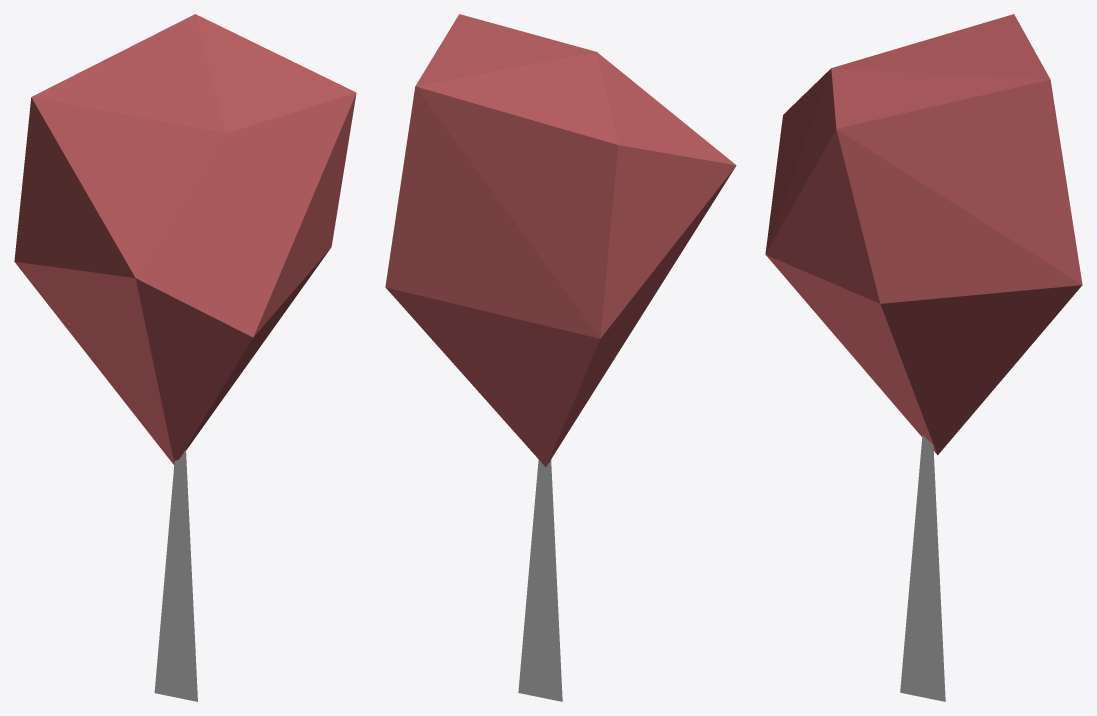
The model's file is world_2_brush_1.dae.
3 renders of one model, left to right at view 1: azimuth 30°, elevation 25°; view 2: azimuth 150°, elevation 25°; view 3: azimuth 270°, elevation 25°, orthographic. The views are drawn at different scales.
Parts seen in each view (by area): view 1: world_2_brush_1_leaves, world_2_brush_1_base; view 2: world_2_brush_1_leaves, world_2_brush_1_base; view 3: world_2_brush_1_leaves, world_2_brush_1_base.
Part boxes in pixels (<box>): world_2_brush_1_leaves: <box>14,14,356,464</box>; world_2_brush_1_base: <box>154,450,197,701</box>; world_2_brush_1_leaves: <box>385,14,736,466</box>; world_2_brush_1_base: <box>518,459,562,701</box>; world_2_brush_1_leaves: <box>765,14,1082,455</box>; world_2_brush_1_base: <box>900,435,945,701</box>.
Size of the model in its own units: 0.3475 by 0.3696 by 0.8338.
